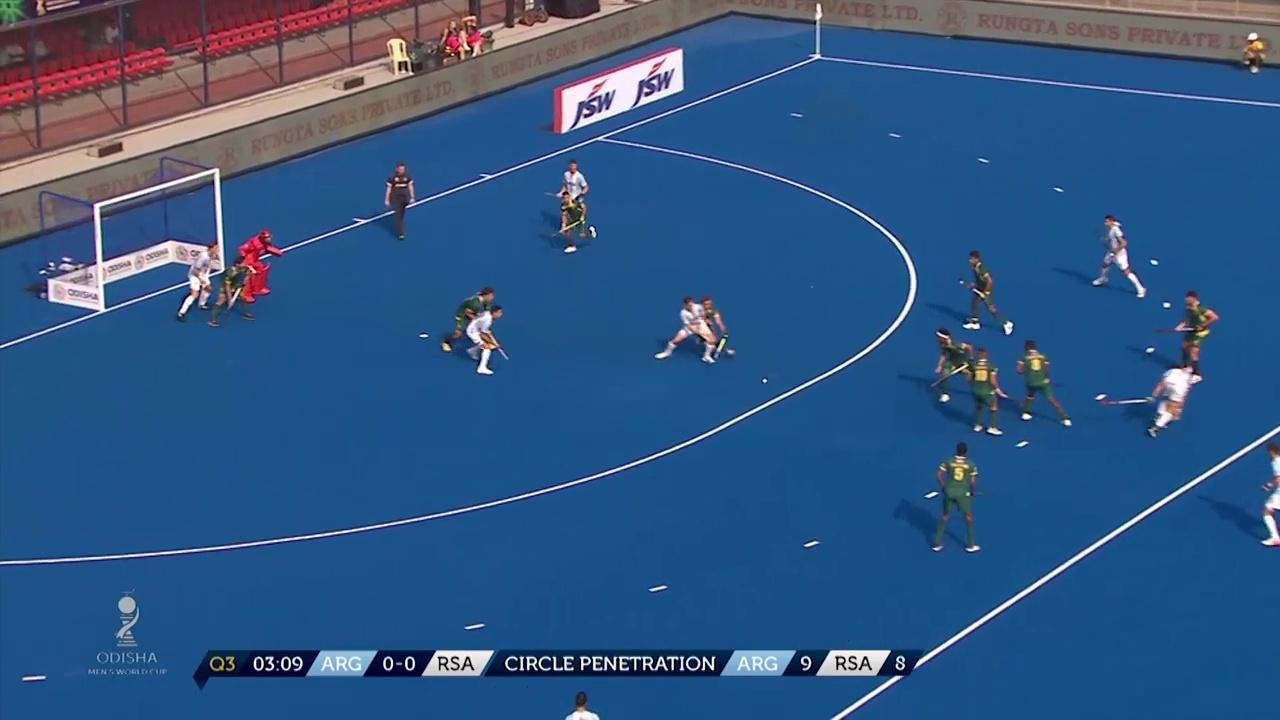ball: (754, 368, 777, 392)
